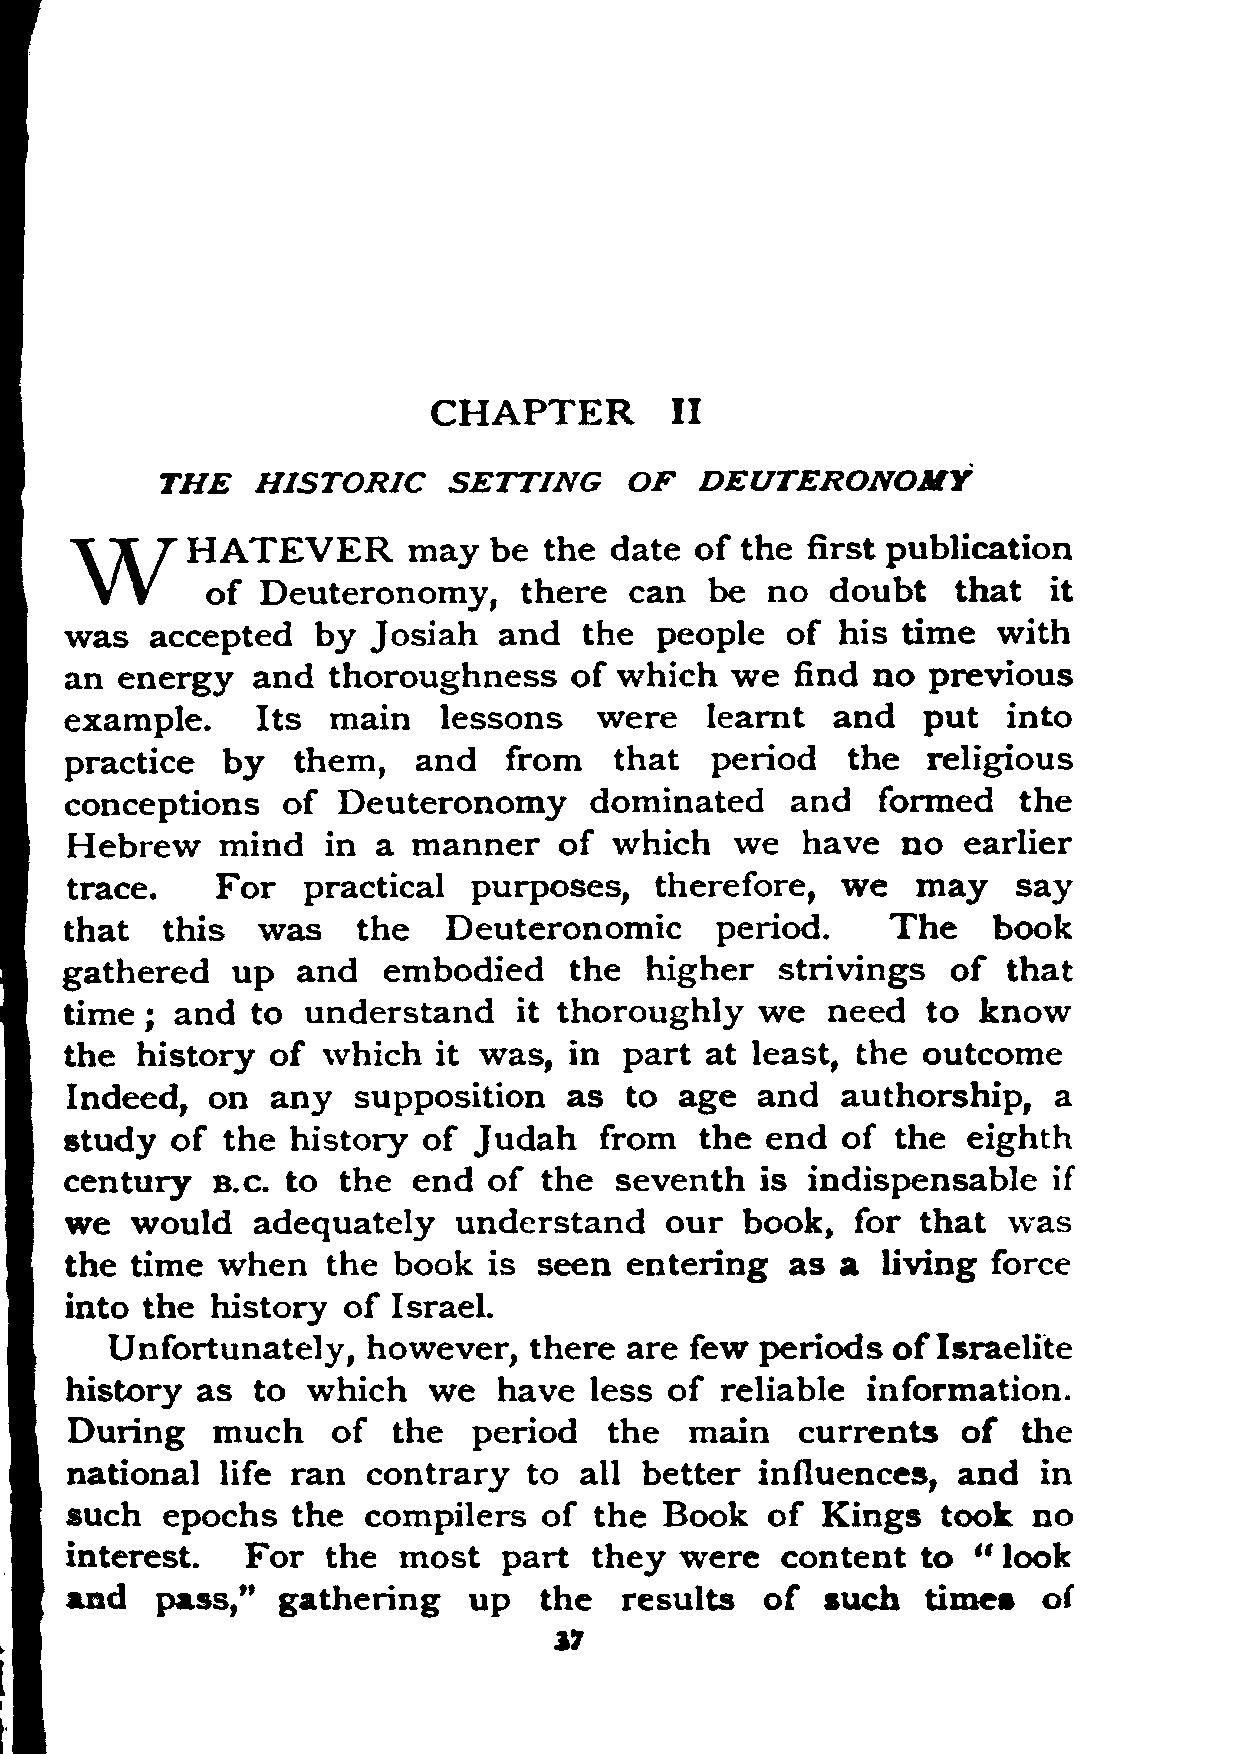chapter: (156, 395, 972, 501)
content: (60, 530, 1076, 1618)
content_pagenumber: (548, 1624, 585, 1659)
